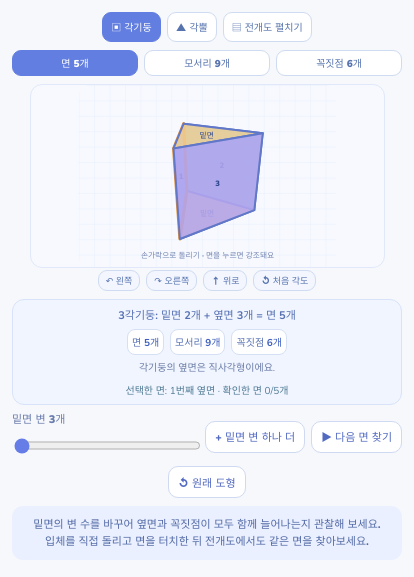
각기둥·각뿔을 손으로 돌리고 면을 실제로 클릭하기 › 슬라이더를 바꾸면 4각기둥은 6면, 12모서리, 8꼭짓점이 된다
Click the button "+ 밑면 변 하나 더". click: [255, 437]
box: [205,421,305,453]
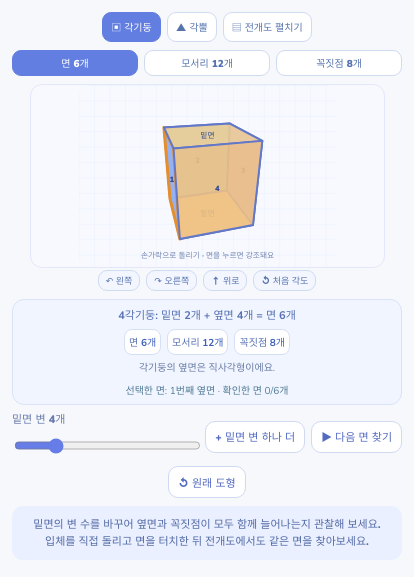
Now the text "4각기둥: 밑면 2개 + 옆면 4개 = 면 6개" is shown, box [118,308,296,323]
Now the button "모서리 12개" is shown, box [144,50,270,76]
Now the button "꼭짓점 8개" is shown, box [276,50,402,76]
